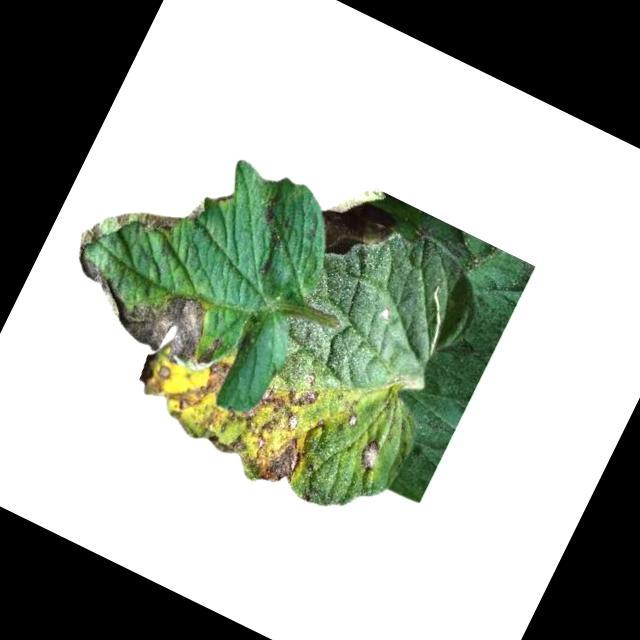Early_blight: (125, 321, 330, 497), (60, 246, 235, 378), (75, 153, 210, 285), (310, 172, 408, 276), (355, 433, 386, 469)
